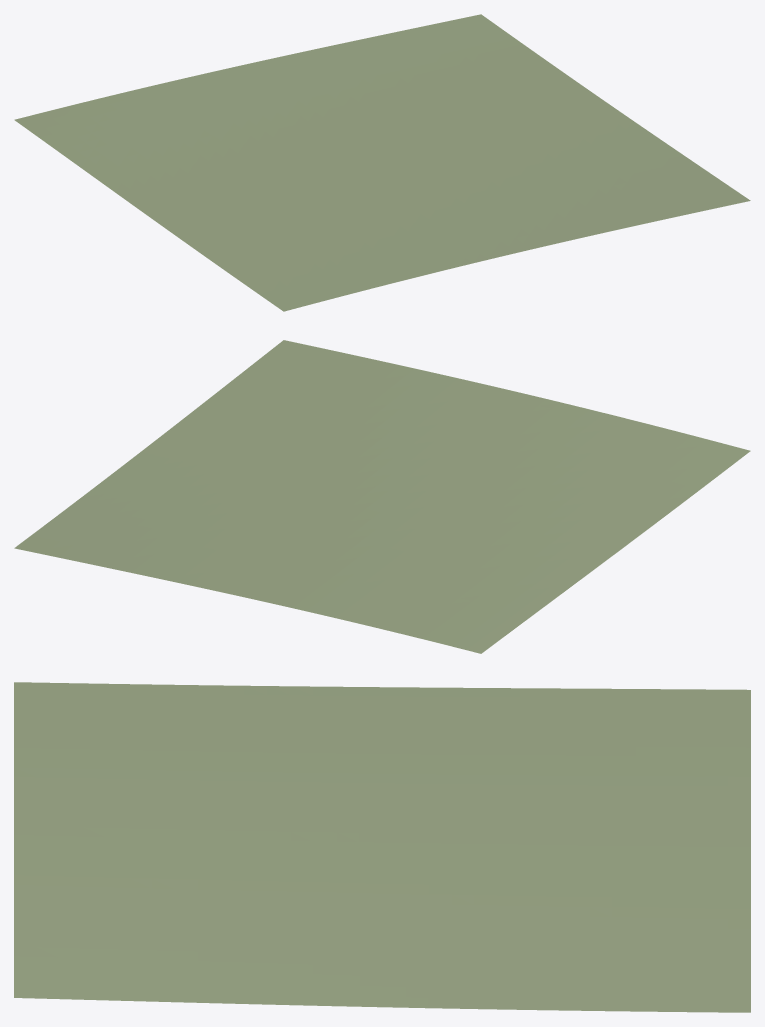
The model's file is expanse-0-25.glb.
The picture shows the model from 3 angles, top to bottom: view 1: azimuth 30°, elevation 25°; view 2: azimuth 150°, elevation 25°; view 3: azimuth 270°, elevation 25°; orthographic projection. The views are drawn at different scales.
Visible parts, largest first — view 1: expanse-0-25; view 2: expanse-0-25; view 3: expanse-0-25.
Boxes of the visible parts, x1,y1,x2,y2 form: expanse-0-25: (14,14,750,311); expanse-0-25: (14,340,750,653); expanse-0-25: (14,682,750,1012).
Bounding box in the file's own units: 256 × 8.46 × 256.
